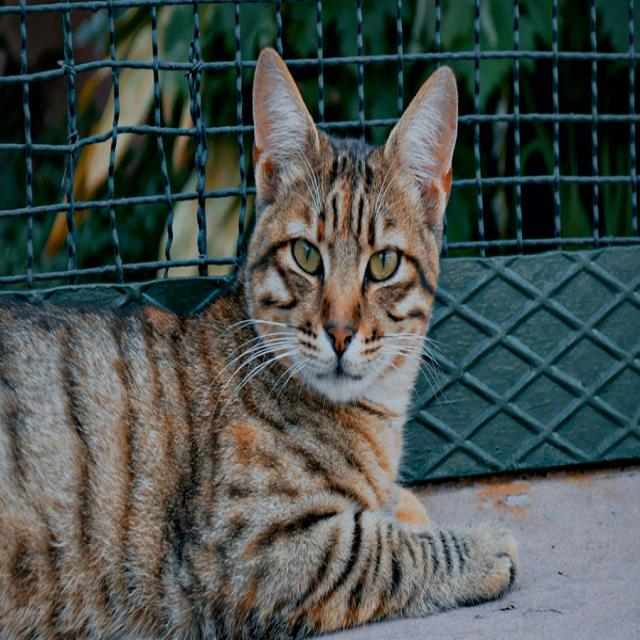Toyger: (0, 43, 522, 640)
